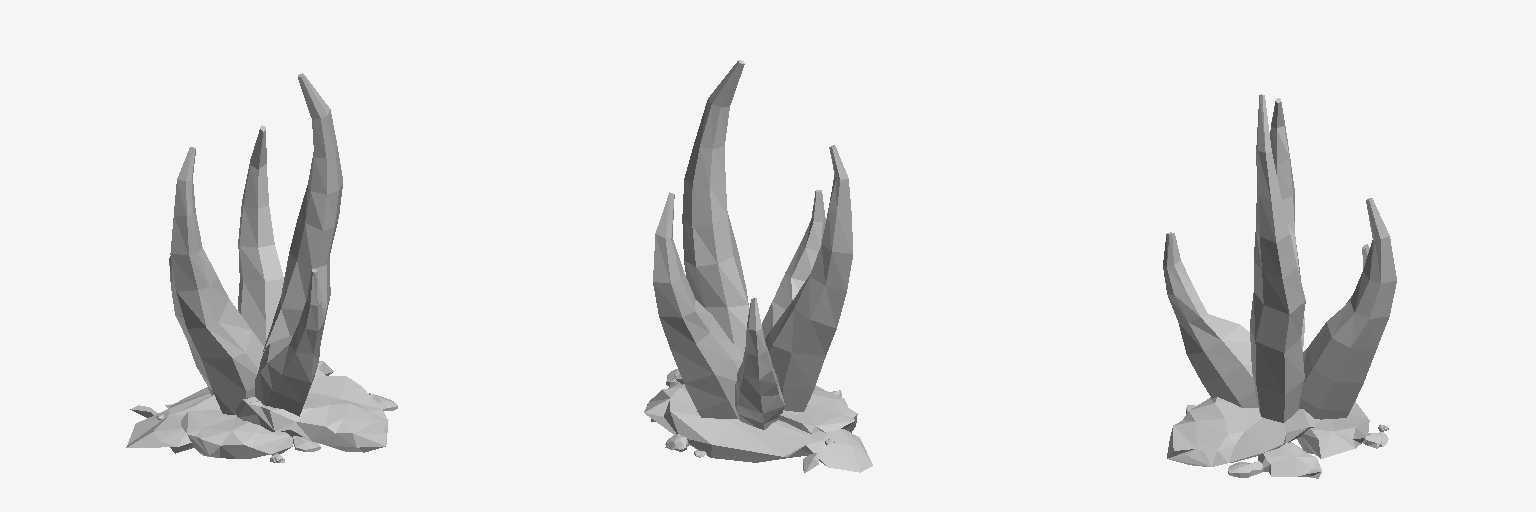
File: Plant.obj
3 renders of one model, left to right at view 1: azimuth 30°, elevation 25°; view 2: azimuth 150°, elevation 25°; view 3: azimuth 270°, elevation 25°, orthographic.
Size of the model in its own units: 1.96 by 2.86 by 1.69.